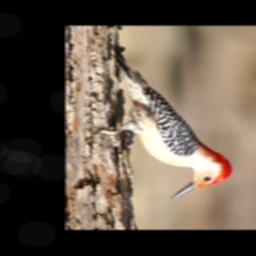Woodpecker: (92, 52, 236, 200)
